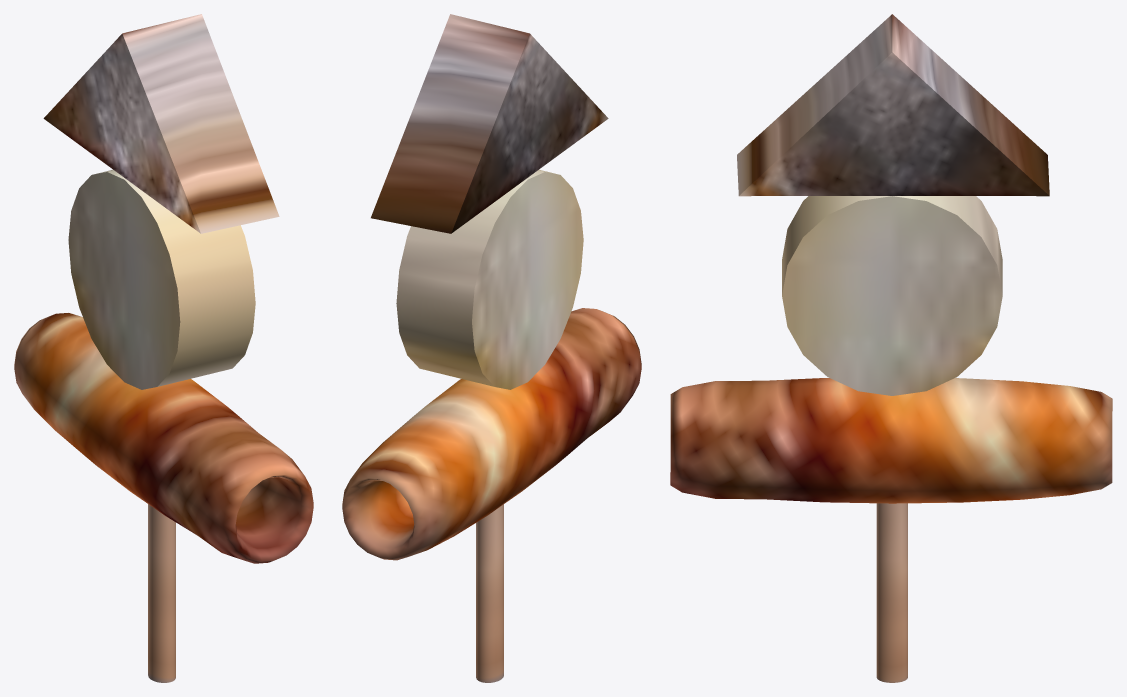
The model's file is oden.fbx.
The picture shows the model from 3 angles, left to right: view 1: azimuth 30°, elevation 25°; view 2: azimuth 150°, elevation 25°; view 3: azimuth 270°, elevation 25°; orthographic projection.
Parts seen in each view (by area): view 1: polySurface2; view 2: polySurface2; view 3: polySurface2.
Part boxes in pixels (x1,y1,x2,y2): polySurface2: [14, 14, 313, 682]; polySurface2: [342, 14, 641, 682]; polySurface2: [670, 14, 1112, 682].
Size of the model in its own units: 0.0628 by 0.3619 by 0.225.
Materials: 1 (1 with a texture image).
